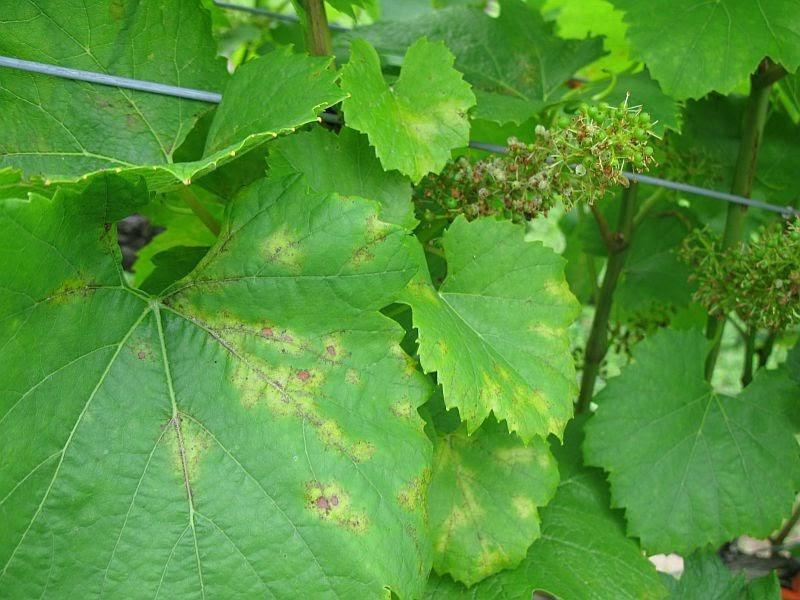grape leaf: (1, 174, 436, 588), (403, 216, 583, 440), (429, 405, 562, 582), (340, 30, 481, 186)
